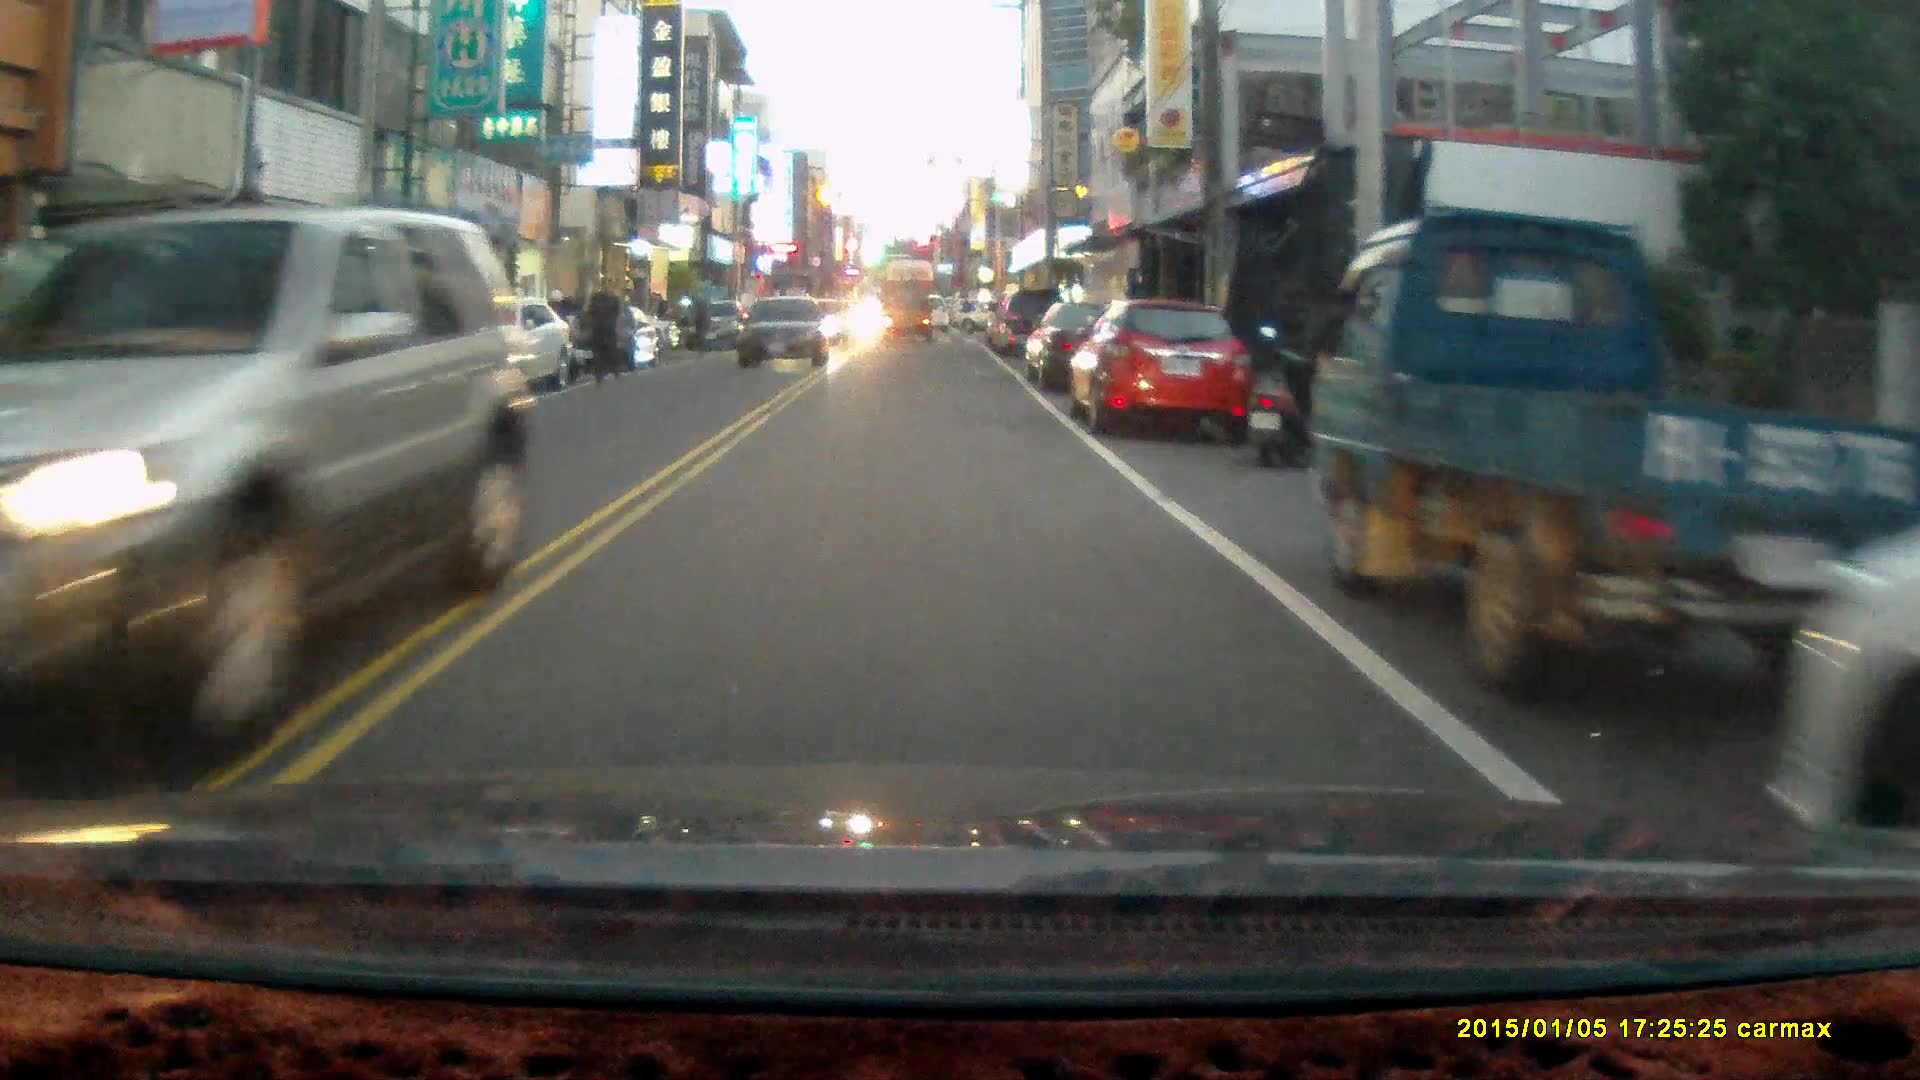pedestrian: (581, 272, 620, 388), (687, 287, 711, 353)
vehicle: (1305, 206, 1920, 690), (1, 207, 530, 768), (1763, 525, 1920, 886), (1070, 300, 1251, 441), (1023, 290, 1173, 399), (739, 292, 829, 370), (877, 282, 935, 346)
